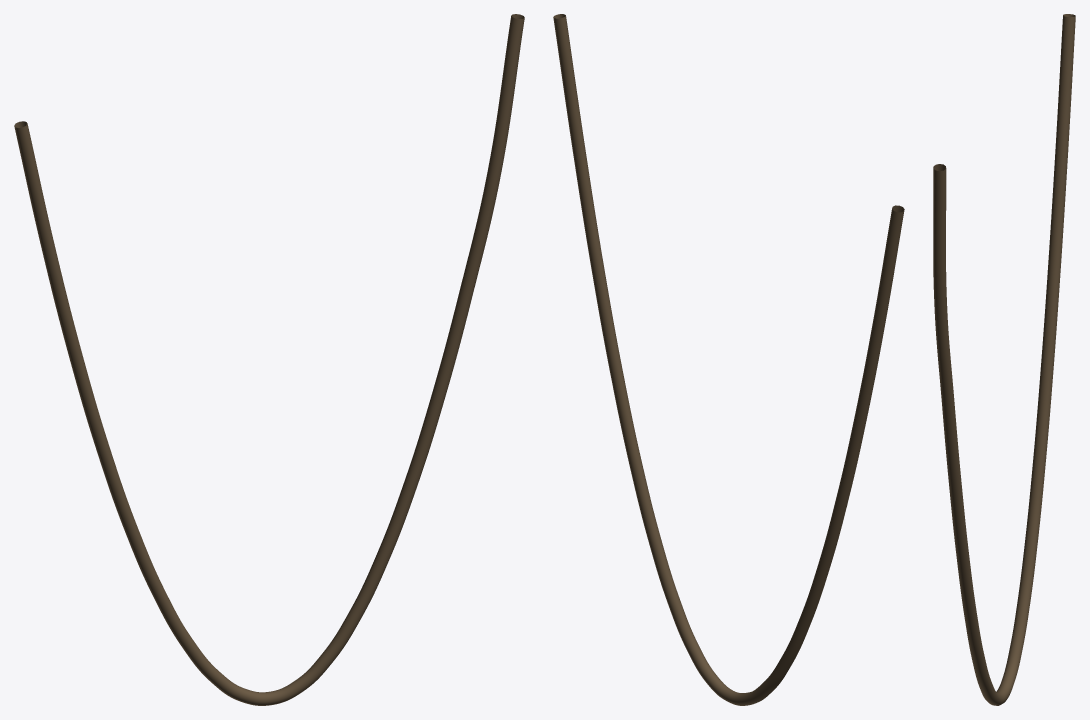
The model's file is Catenary.043.fbx.
The picture shows the model from 3 angles, left to right: view 1: azimuth 30°, elevation 25°; view 2: azimuth 150°, elevation 25°; view 3: azimuth 270°, elevation 25°; orthographic projection. The views are drawn at different scales.
Visible parts, largest first — view 1: Catenary.043; view 2: Catenary.043; view 3: Catenary.043.
Boxes of the visible parts, x1,y1,x2,y2 form: Catenary.043: (14,14,524,705); Catenary.043: (553,14,904,705); Catenary.043: (933,14,1075,705).
Size of the model in its own units: 58.42 by 83.36 by 16.93.
